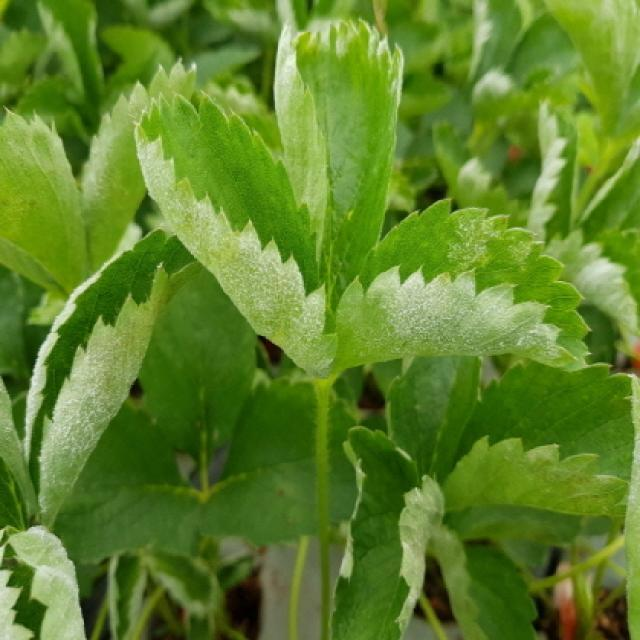powdery_mildew_leaf: (132, 90, 341, 382), (20, 225, 207, 525), (327, 197, 595, 386), (271, 16, 407, 330), (80, 58, 199, 279), (327, 426, 449, 638), (0, 525, 87, 638)
